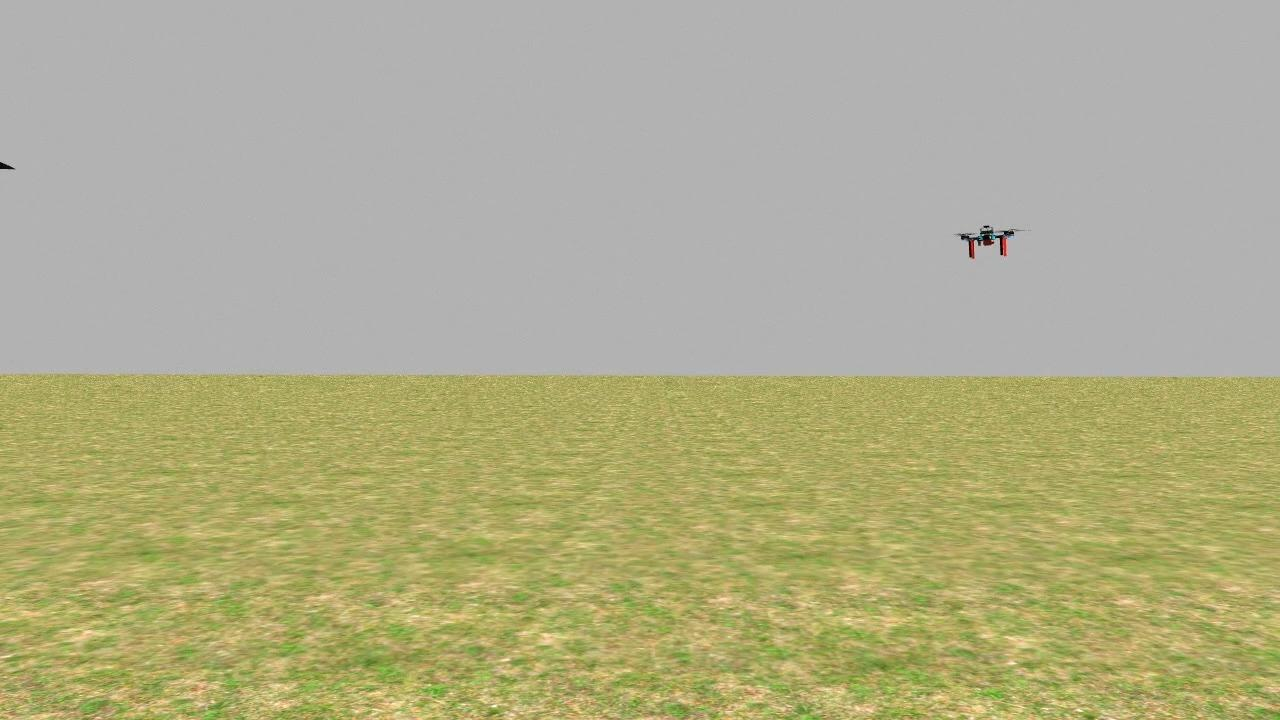UAV: (947, 214, 1030, 264)
